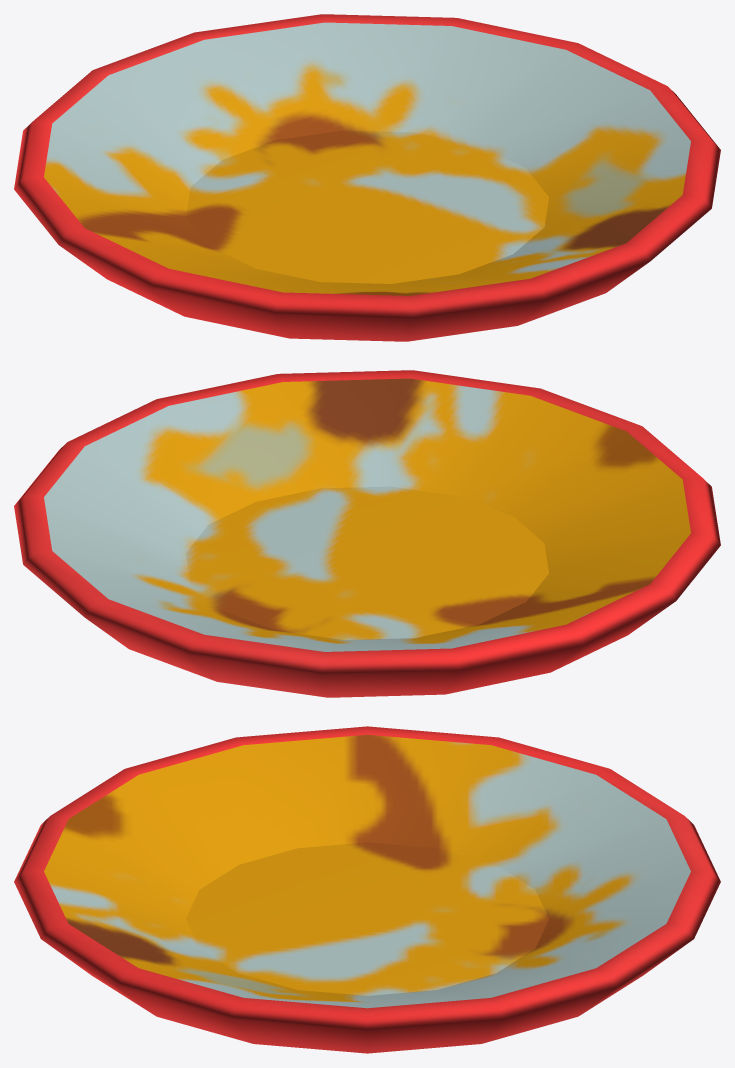
File: M_Prop_Plate_002.fbx
The picture shows the model from 3 angles, top to bottom: view 1: azimuth 30°, elevation 25°; view 2: azimuth 150°, elevation 25°; view 3: azimuth 270°, elevation 25°; orthographic projection.
Parts seen in each view (by area): view 1: Plate; view 2: Plate; view 3: Plate.
Part boxes in pixels (x1,y1,x2,y2): Plate: [14, 14, 720, 341]; Plate: [14, 370, 720, 697]; Plate: [14, 726, 720, 1053].
Size of the model in its own units: 61.74 by 5.4 by 61.74.
